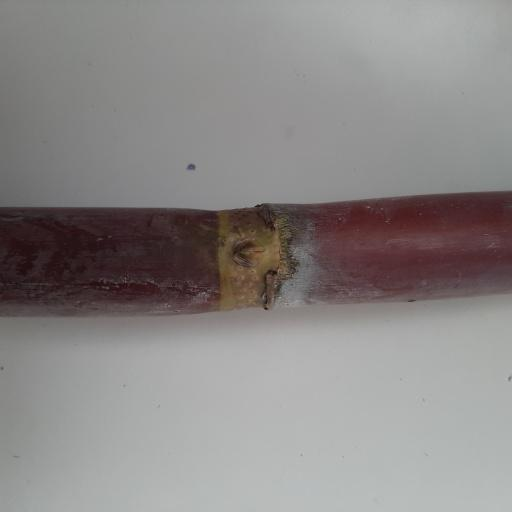Bud: (230, 239, 268, 268)
